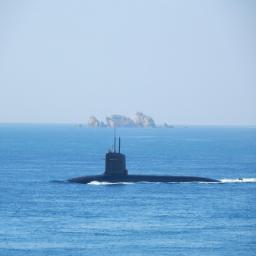submarine: (62, 143, 246, 185)
